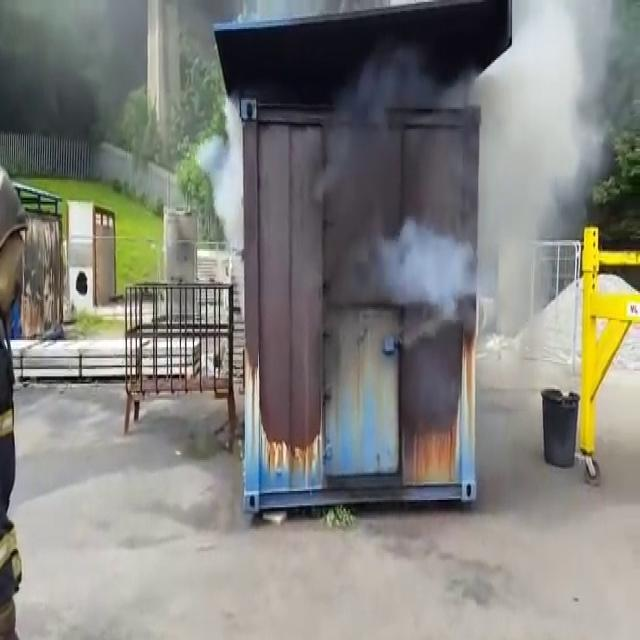Smoke: (467, 18, 570, 276), (395, 222, 450, 325)
